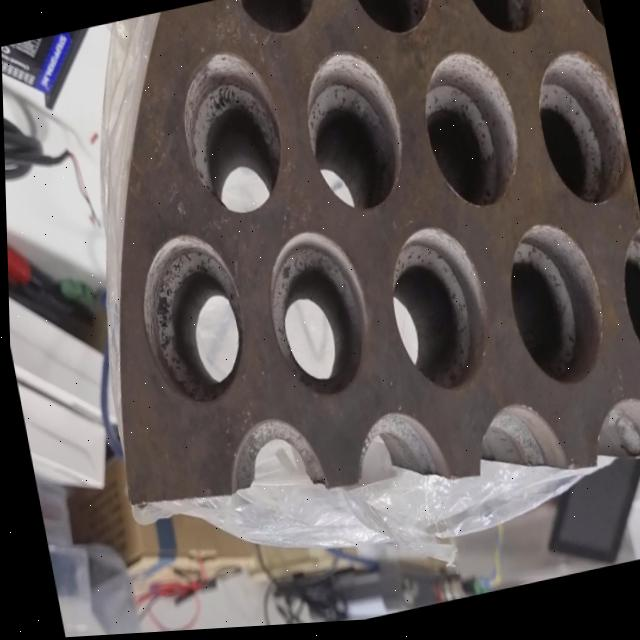Hole: (128, 228, 256, 418), (255, 225, 380, 410), (378, 223, 499, 406), (171, 45, 293, 225), (295, 45, 414, 227), (497, 220, 613, 402), (414, 47, 530, 224), (527, 49, 636, 222), (456, 0, 558, 51), (347, 0, 446, 52), (610, 232, 640, 396)
